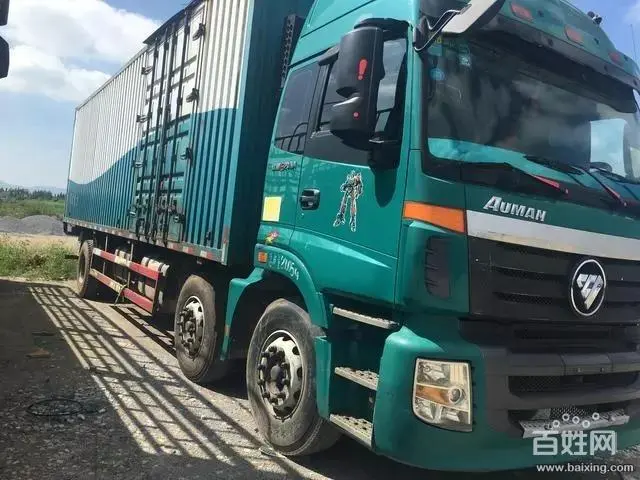bigtruck: (60, 20, 639, 444)
